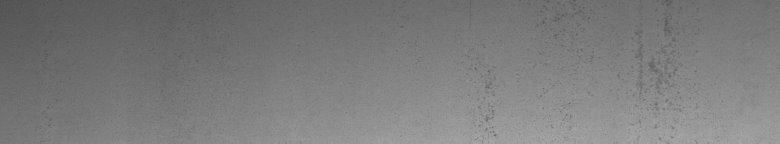ib: (479, 13, 681, 136)
